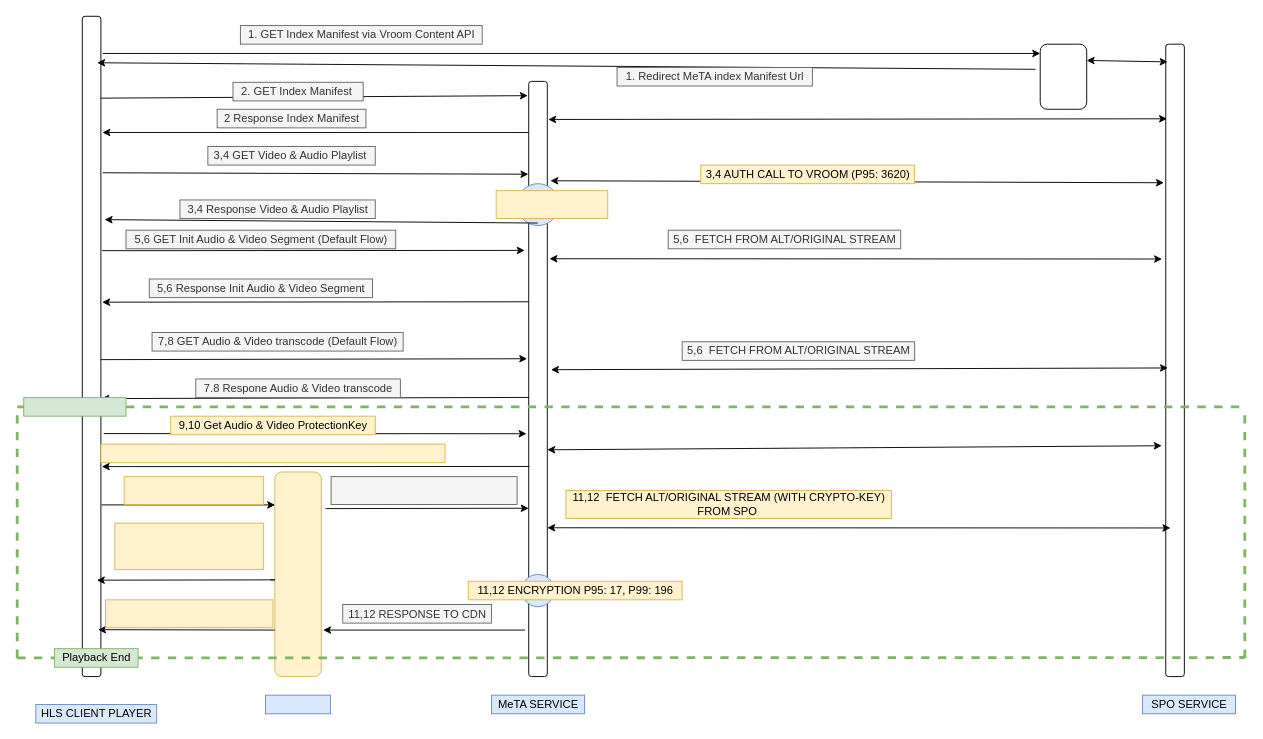
Some shapes in this 1263 by 739 pixel diagram are drawn without their labels. The shapes that lost their labels are listed below. From the top down, each one's box as (x1, y1, x2, y2) in pixels, then its label:
(1039, 43, 1087, 109): Vroom
(495, 190, 608, 219): 3,4 URL SIGNING P95: 28, P99: 36
(23, 397, 126, 416): Playback Started
(100, 443, 445, 463): 9,10 Response Audio & Video ProtectionKey P95:1500, P99: 4500
(123, 476, 264, 505): 11,12 Get Audio & Video transcode
(330, 476, 517, 505): 11,12 B MISS CASE: FETCH CONTENT FROM ORIGIN
(114, 522, 264, 570): 11,12 A HIT CASE CONTENT SERVED FROM CDN
(274, 471, 321, 677): CDN
(105, 599, 273, 628): 11,12 Response Audio & Video (CDN MISS CASE)
(265, 694, 331, 714): AFD CDN
